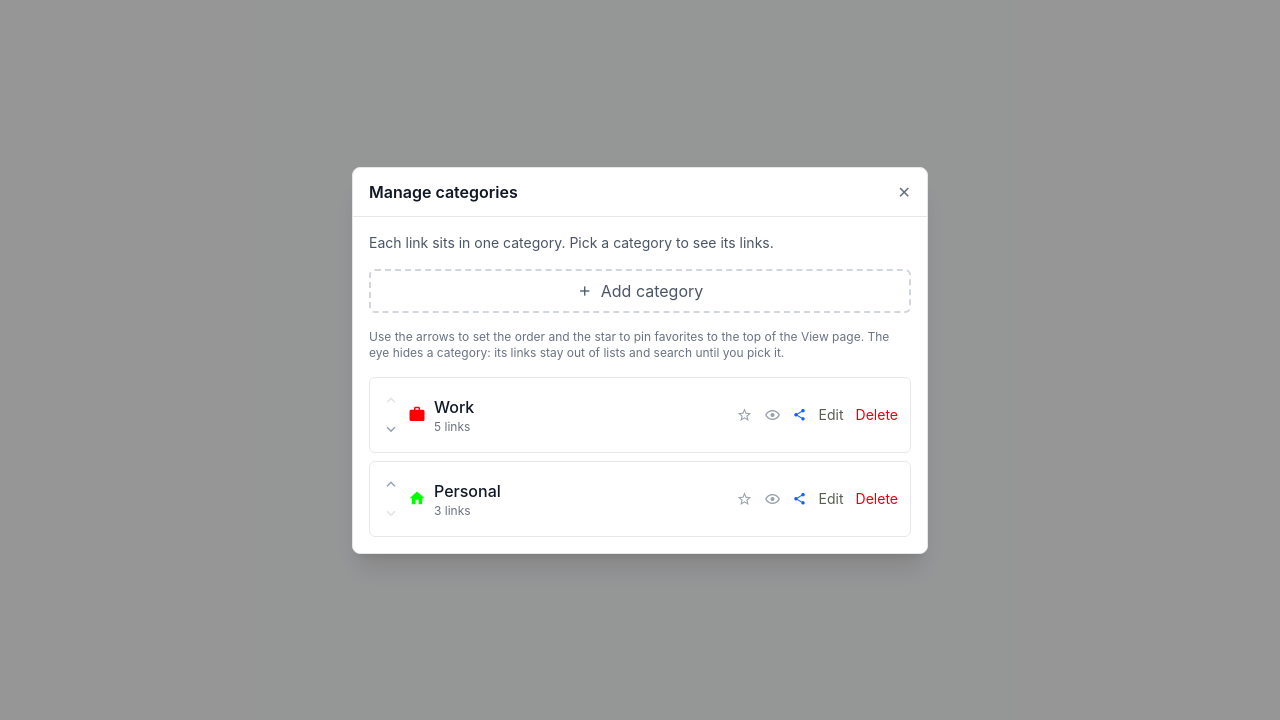
Test: CategoryManager › enters edit mode when Edit is clicked
What coordinates should you click on to do the following:
click the button "Edit" in the row of "Work"
I would click on:
 (831, 414)
Its box is [819, 404, 844, 424].
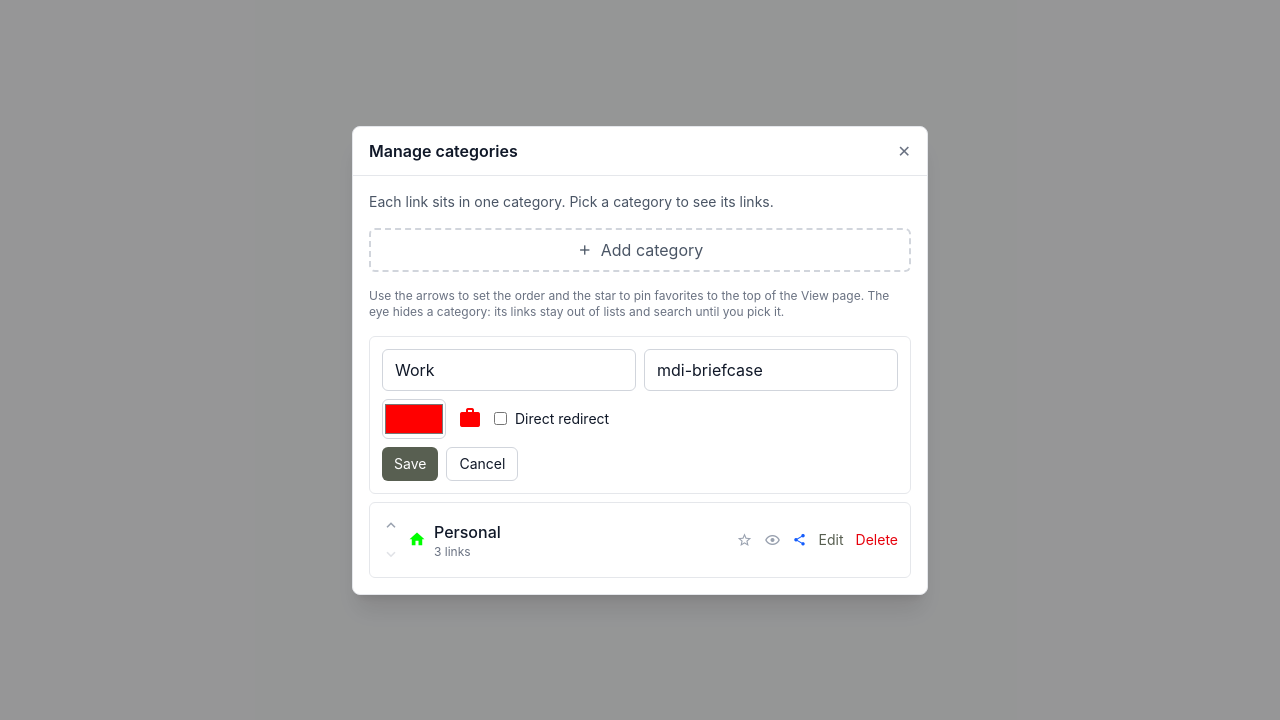
expect the text "Save" is shown: met, box [382, 446, 438, 480]
expect the text "Cancel" is shown: met, box [446, 446, 518, 480]
